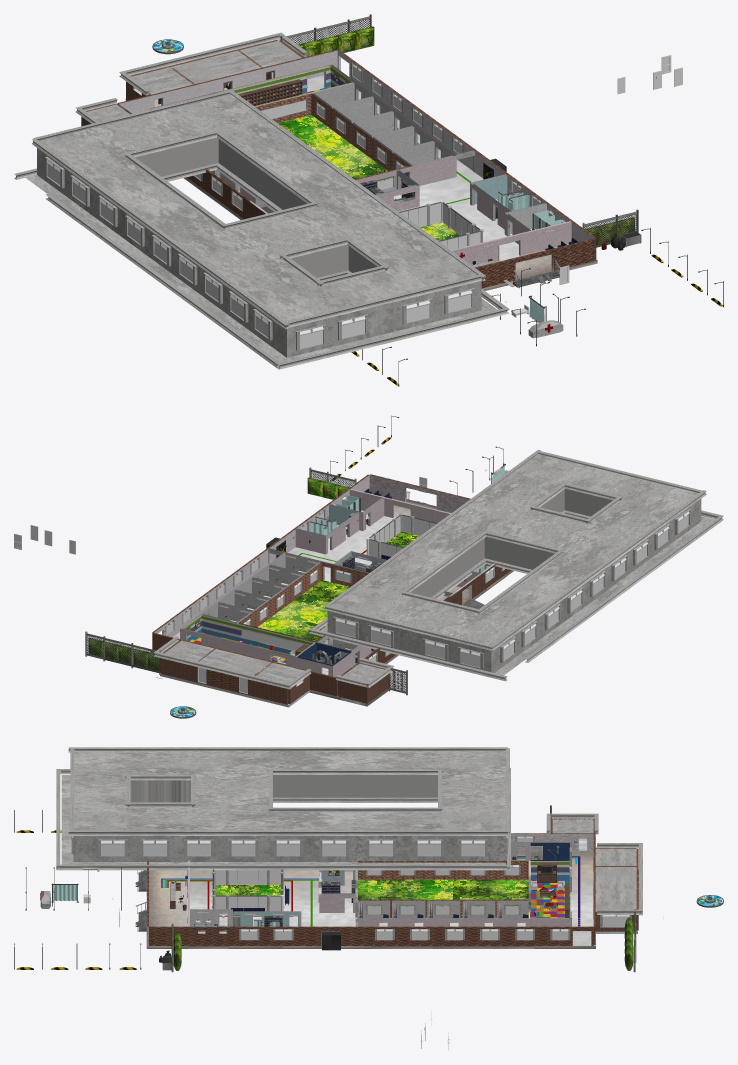
Rendered from Mapa V.020.fbx.
The picture shows the model from 3 angles, top to bottom: view 1: azimuth 30°, elevation 25°; view 2: azimuth 150°, elevation 25°; view 3: azimuth 270°, elevation 25°; orthographic projection. The views are drawn at different scales.
Parts seen in each view (by area): view 1: Teto Predio Geral, Comodos_Centrais, Chao, Teto_Anexo_Arquivos_Reuniao_Diretoria, Parede_Esquerda, Parede_Interna_Fundos, Parede_Divisória_recepção, Parede_Frontal_Entrada, Parede_Triagem_Dir, Parede_Direita, Suporte.014, Armario LArgo (+5 smaller); view 2: Teto Predio Geral, Comodos_Centrais, Chao, Teto_Anexo_Arquivos_Reuniao_Diretoria, Parede_Esquerda, Comodo_Anexo_Arquivo_Reuniao_Diretoria, Suporte.014, Parede_Frontal_Entrada, Parede_Triagem_Dir, Parede_Divisória_recepção, Parede_Direita, Parede_Interna_Fundos (+4 smaller); view 3: Teto Predio Geral, Chao, Comodos_Centrais, Parede_Esquerda, Teto_Anexo_Arquivos_Reuniao_Diretoria, teto_zelador, Comodo_Medicação, Vidros_Parede_de_Vidro.002, Vidros_Parede_de_Vidro.003, Parede_Direita, Parede_Triagem_Dir, Parede_banheiros (+2 smaller).
Boxes of the visible parts, x1,y1,x2,y2 form: Teto Predio Geral: (14, 90, 509, 369); Comodos_Centrais: (149, 64, 456, 213); Chao: (183, 75, 597, 290); Teto_Anexo_Arquivos_Reuniao_Diretoria: (119, 32, 307, 95); Parede_Esquerda: (337, 50, 596, 259); Parede_Interna_Fundos: (117, 49, 337, 113); Parede_Divisória_recepção: (451, 221, 571, 265); Parede_Frontal_Entrada: (475, 238, 595, 288); Parede_Triagem_Dir: (470, 174, 510, 229); Parede_Direita: (117, 104, 267, 219); Suporte.014: (281, 14, 371, 44); Armario LArgo: (238, 79, 302, 106); Teto Predio Geral: (308, 450, 723, 681); Comodos_Centrais: (180, 552, 370, 676); Chao: (151, 493, 513, 699); Teto_Anexo_Arquivos_Reuniao_Diretoria: (153, 636, 311, 689); Parede_Esquerda: (152, 474, 369, 649); Comodo_Anexo_Arquivo_Reuniao_Diretoria: (160, 640, 309, 704); Suporte.014: (85, 631, 161, 674); Parede_Frontal_Entrada: (369, 474, 470, 512); Parede_Triagem_Dir: (295, 512, 359, 554); Parede_Divisória_recepção: (349, 489, 450, 522); Parede_Direita: (338, 563, 511, 695); Parede_Interna_Fundos: (153, 633, 337, 696); Teto Predio Geral: (56, 747, 510, 870); Chao: (146, 851, 595, 948); Comodos_Centrais: (355, 842, 571, 936); Parede_Esquerda: (149, 926, 593, 945); Teto_Anexo_Arquivos_Reuniao_Diretoria: (595, 843, 642, 915); teto_zelador: (546, 813, 598, 834); Comodo_Medicação: (319, 870, 355, 912); Vidros_Parede_de_Vidro.002: (215, 870, 280, 883); Vidros_Parede_de_Vidro.003: (215, 896, 280, 911); Parede_Direita: (511, 833, 593, 852); Parede_Triagem_Dir: (233, 911, 301, 926); Parede_banheiros: (190, 909, 232, 926).
Bounding box in the file's own units: 9082 × 831 × 10377.
Materials: 902 (781 with a texture image).
